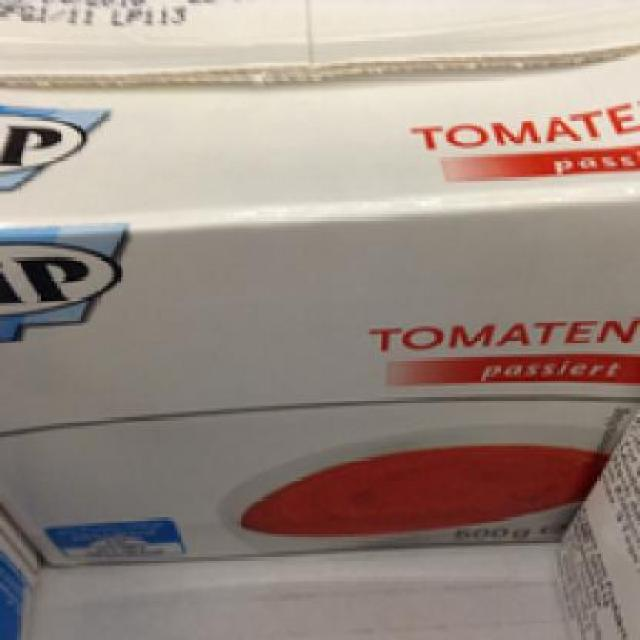Tomato Sauce: (0, 0, 637, 569)
